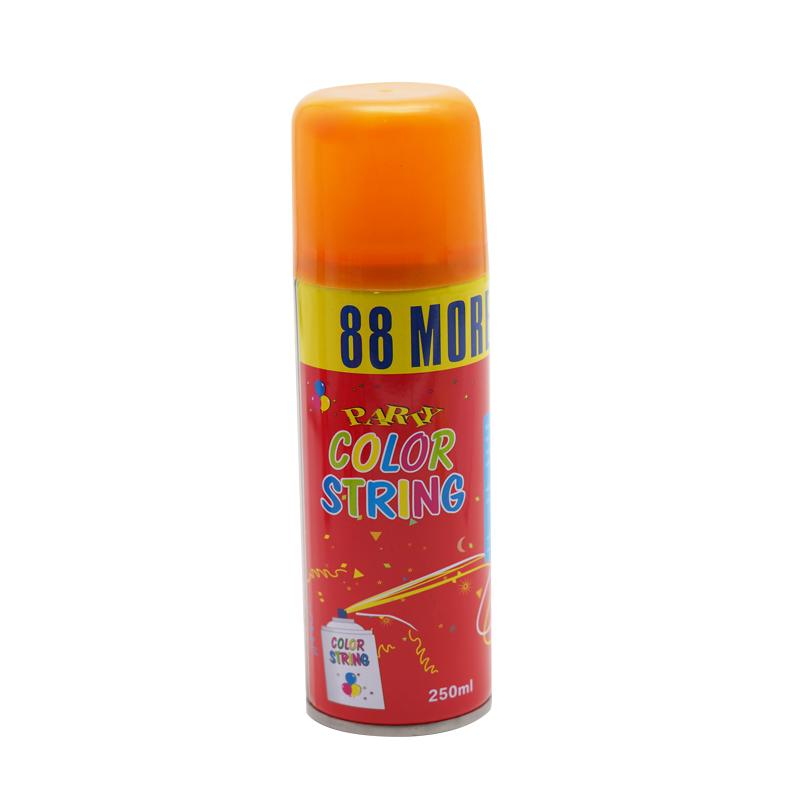Aerosol_cans: (290, 80, 498, 740)
